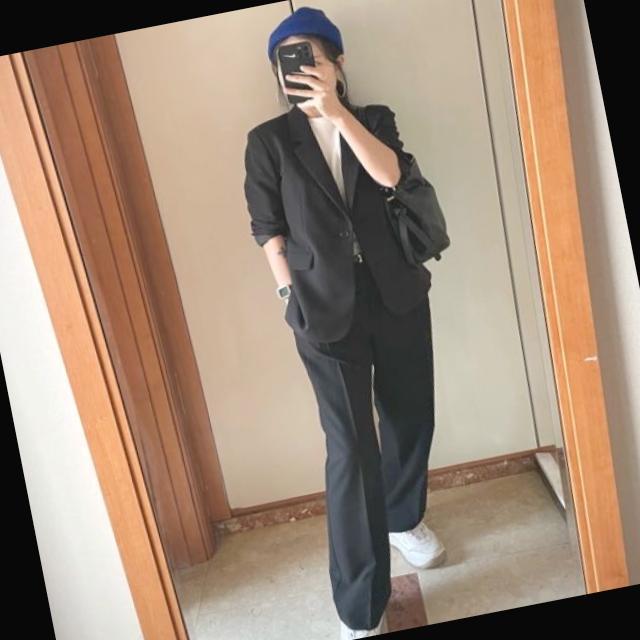blazer: (225, 83, 442, 356)
slacks: (273, 254, 489, 636)
